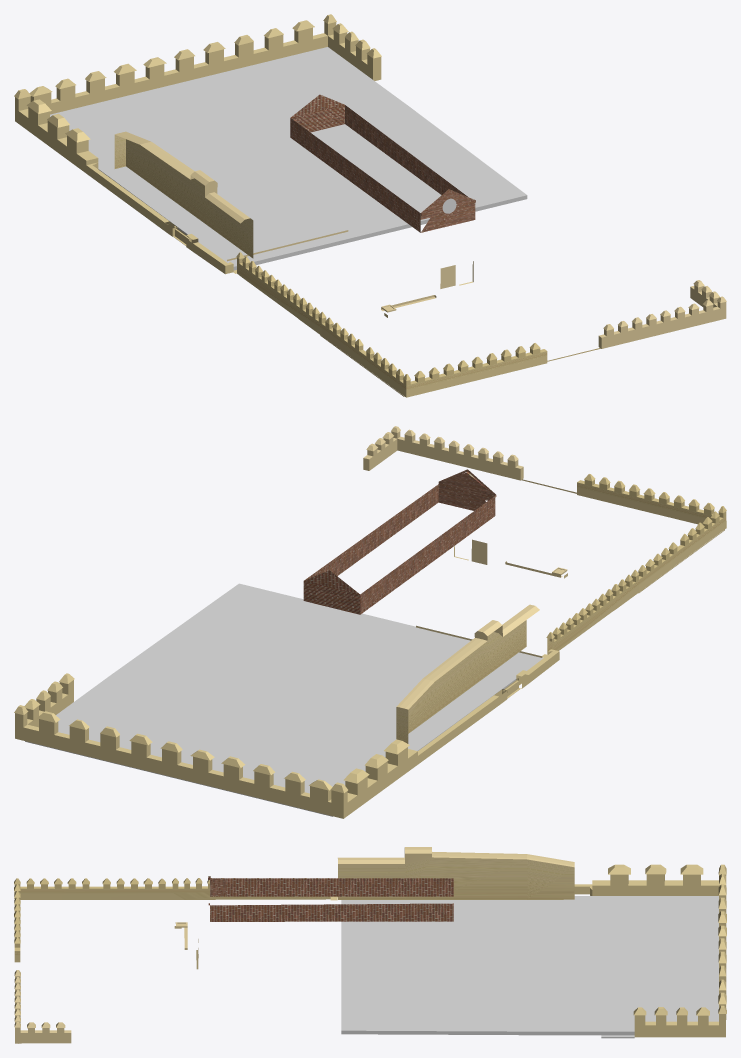
Rendered from catedral3bx.fbx.
The picture shows the model from 3 angles, top to bottom: view 1: azimuth 30°, elevation 25°; view 2: azimuth 150°, elevation 25°; view 3: azimuth 270°, elevation 25°; orthographic projection. The views are drawn at different scales.
Parts seen in each view (by area): view 1: Cube.015, Cube.001, Cube.055; view 2: Cube.015, Cube.001, Cube.055; view 3: Cube.015, Cube.001, Cube.055.
Part boxes in pixels (x1,y1,x2,y2): Cube.015: (50,47,527,270); Cube.001: (14,14,726,397); Cube.055: (290,105,475,232); Cube.015: (25,583,543,816); Cube.001: (14,426,726,818); Cube.055: (303,469,496,614); Cube.015: (341,896,718,1038); Cube.001: (14,847,726,1043); Cube.055: (208,876,453,921).
Bounding box in the file's own units: 20004 × 5759 × 39692.
